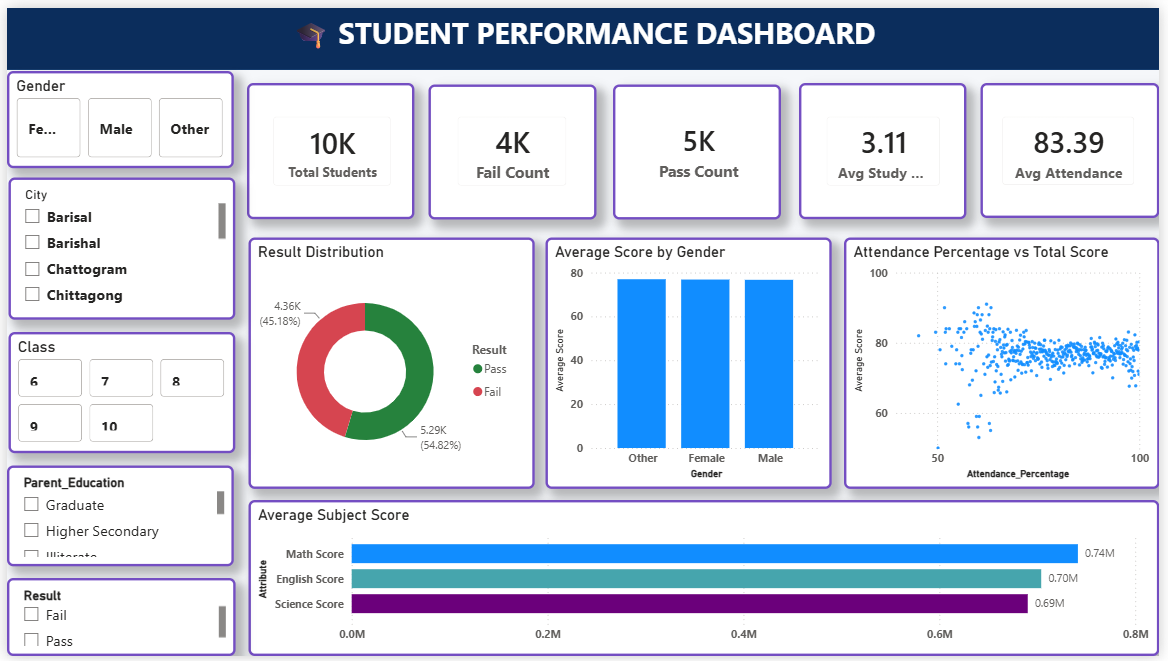

Layout of this report page (visuals, bound fields, positions):
{"tool":"powerbi","page":{"name":"Dashboard","canvas":[1280,720],"ordinal":0},"visuals":[{"type":"shape","box":[468,84.7,186.8,150.2],"z":0},{"type":"shape","box":[674,84.7,186.8,150.2],"z":1000},{"type":"shape","box":[879.6,82.7,186.1,151.1],"z":2000},{"type":"shape","box":[1081.7,83.3,198.3,150],"z":3000},{"type":"shape","box":[0,0,1280.4,68.4],"z":4000},{"type":"textbox","box":[0,0,1280.4,68.4],"z":5000},{"type":"shape","box":[267.2,82.7,186.1,151.1],"z":6000},{"type":"cardVisual","fields":{"Data":["StudentData.Pass Count"]},"box":[687.5,104,159.8,111.7],"z":7000},{"type":"cardVisual","fields":{"Data":["StudentData.Fail Count"]},"box":[483.4,104,156,111.7],"z":8000},{"type":"cardVisual","fields":{"Data":["StudentData.Avg Study Hours"]},"box":[893.3,103.3,160,111.7],"z":9000},{"type":"cardVisual","fields":{"Data":["StudentData.Total Students"]},"box":[278.4,103.4,165.4,111.3],"z":10000},{"type":"cardVisual","fields":{"Data":["StudentData.Avg Attendance"]},"box":[1088.3,103.3,181.7,110],"z":11000},{"type":"donutChart","title":"Result Distribution","fields":{"Category":["StudentData.Result"],"Y":["CountNonNull(StudentData.Student_ID)"]},"box":[267.7,254.2,317.8,279.2],"z":12000},{"type":"clusteredColumnChart","fields":{"Category":["StudentData.Gender"],"Y":["StudentData.Average Score"]},"box":[598.9,254.2,317.8,279.2],"z":13000},{"type":"scatterChart","title":"Attendance Percentage vs Total Score","fields":{"X":["StudentData.Attendance_Percentage"],"Y":["StudentData.Average Score"]},"box":[930.2,254.2,350.5,279.2],"z":14000},{"type":"clusteredBarChart","title":"Average Subject Score","fields":{"Category":["Subject scores.Attribute"],"Y":["Sum(Subject scores.Value)"]},"box":[268.3,546.7,1011.7,173.3],"z":15000},{"type":"advancedSlicerVisual","fields":{"Values":["StudentData.Gender"]},"box":[0,69.3,252.3,107.8],"z":16000},{"type":"slicer","fields":{"Values":["StudentData.City"]},"box":[1.9,188.7,252.3,157.9],"z":17000},{"type":"advancedSlicerVisual","fields":{"Values":["StudentData.Class"]},"box":[1.9,360.1,252.3,134.8],"z":18000},{"type":"slicer","fields":{"Values":["StudentData.Parent_Education"]},"box":[0,508.4,252.3,111.7],"z":19000},{"type":"slicer","fields":{"Values":["StudentData.Result"]},"box":[0,633.6,254.2,86.7],"z":20000}]}

Visuals, with their boxes in screenshot pixels (x1, y1, x2, y2), scaled from the page's 1280x720 canvas onto the 1168x661 screenshot:
shape: box=[427, 78, 598, 216]
shape: box=[615, 78, 785, 216]
shape: box=[803, 76, 972, 215]
shape: box=[987, 76, 1167, 214]
shape: box=[0, 0, 1167, 63]
textbox: box=[0, 0, 1167, 63]
shape: box=[244, 76, 414, 215]
cardVisual - StudentData.Pass Count: box=[627, 95, 773, 198]
cardVisual - StudentData.Fail Count: box=[441, 95, 583, 198]
cardVisual - StudentData.Avg Study Hours: box=[815, 95, 961, 197]
cardVisual - StudentData.Total Students: box=[254, 95, 405, 197]
cardVisual - StudentData.Avg Attendance: box=[993, 95, 1159, 196]
"Result Distribution" donutChart: box=[244, 233, 534, 490]
clusteredColumnChart - StudentData.Gender x StudentData.Average Score: box=[546, 233, 836, 490]
"Attendance Percentage vs Total Score" scatterChart: box=[849, 233, 1167, 490]
"Average Subject Score" clusteredBarChart: box=[245, 502, 1167, 660]
advancedSlicerVisual - StudentData.Gender: box=[0, 64, 230, 163]
slicer - StudentData.City: box=[2, 173, 232, 318]
advancedSlicerVisual - StudentData.Class: box=[2, 331, 232, 454]
slicer - StudentData.Parent_Education: box=[0, 467, 230, 569]
slicer - StudentData.Result: box=[0, 582, 232, 660]
